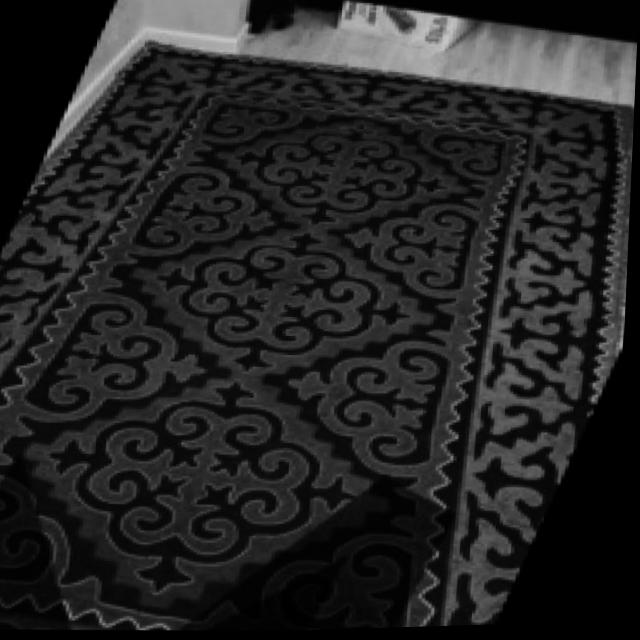Unity: (27, 373, 381, 598), (136, 224, 424, 380), (6, 276, 215, 445), (267, 321, 452, 497), (219, 119, 464, 229), (328, 189, 481, 326), (119, 149, 280, 272)
